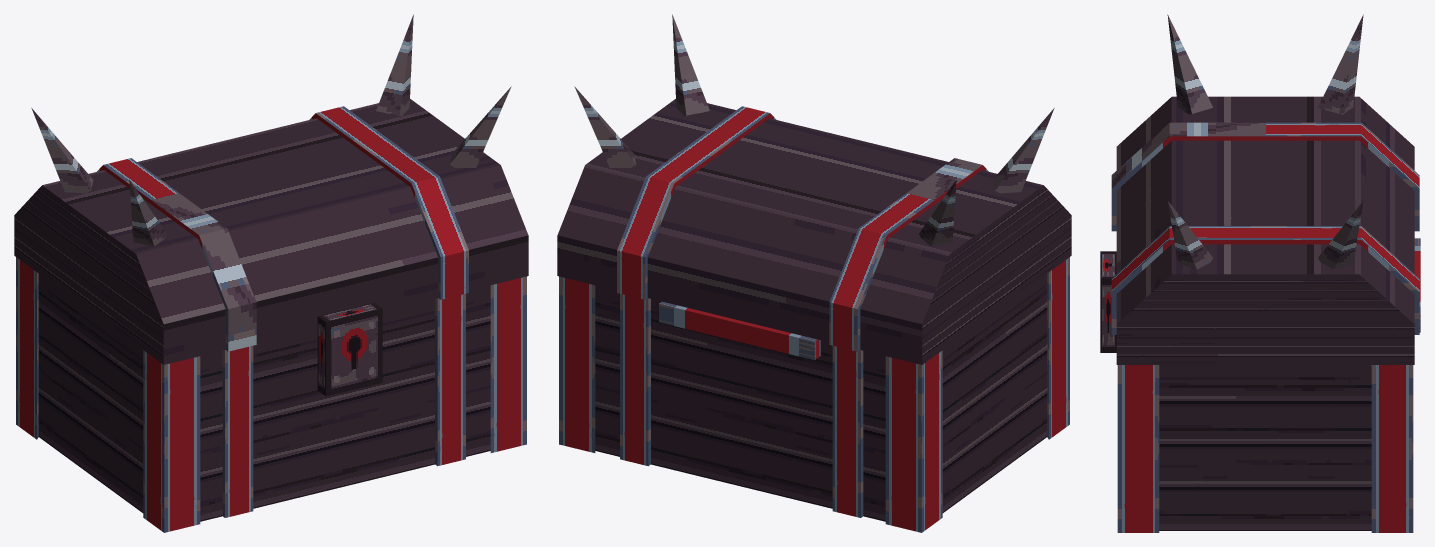
Rendered from chest_vampire.glb.
3 renders of one model, left to right at view 1: azimuth 30°, elevation 25°; view 2: azimuth 150°, elevation 25°; view 3: azimuth 270°, elevation 25°, orthographic.
Parts seen in each view (by area): view 1: lid, base, lock; view 2: lid, base; view 3: lid, base, lock.
Boxes of the visible parts, x1,y1,x2,y2 form: lid: [14, 14, 528, 364]; base: [16, 257, 526, 532]; lock: [317, 302, 382, 396]; lid: [557, 14, 1071, 364]; base: [559, 257, 1069, 532]; lid: [1111, 14, 1419, 364]; base: [1117, 238, 1420, 532]; lock: [1100, 251, 1116, 352].
Bounding box in the file's own units: 1.08 × 0.912 × 0.785.
Materials: 1 (1 with a texture image).
